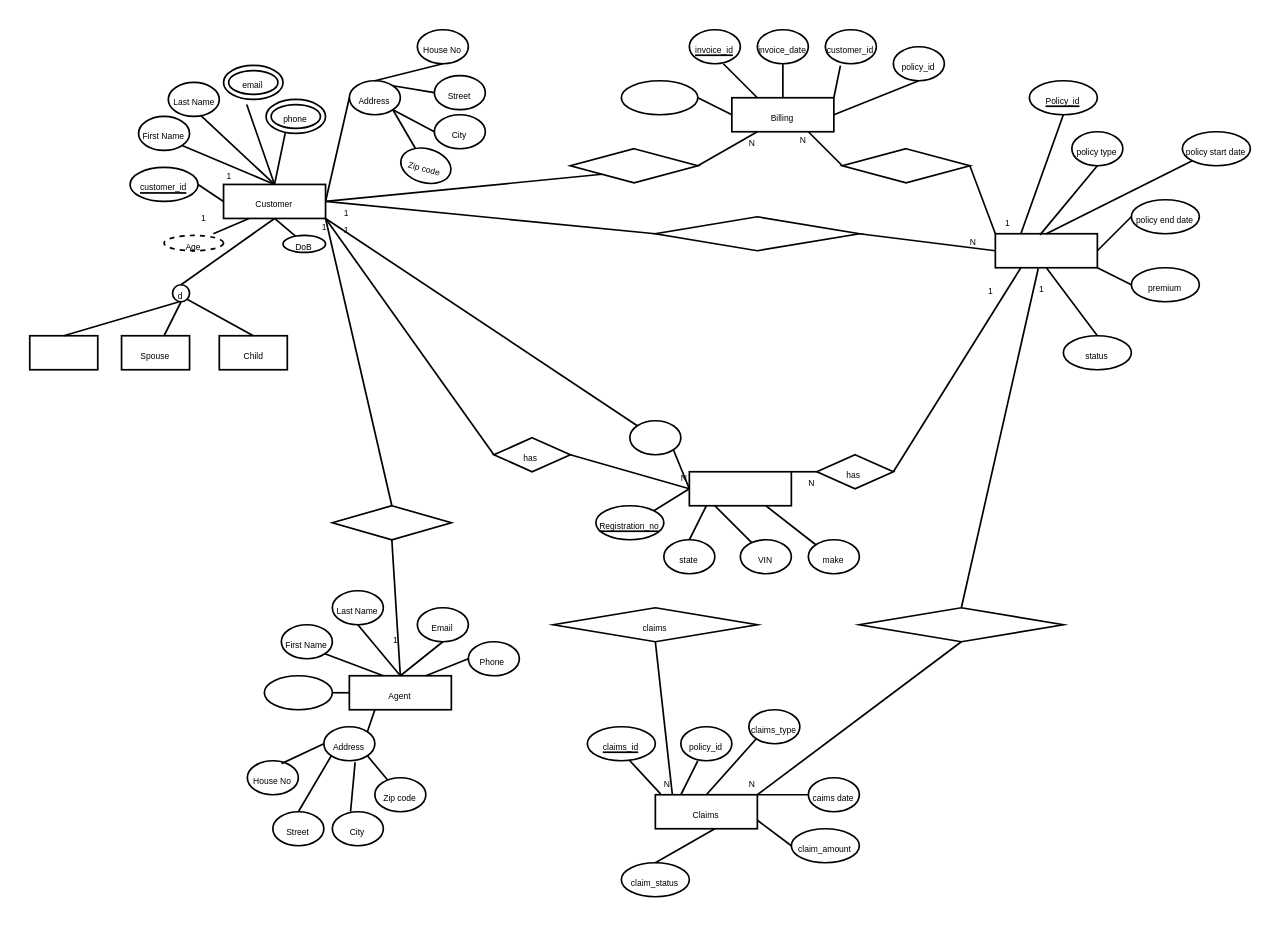
This 1280x927 diagram has some shape labels left out. Here are the shapes that lost their labels. From the top down, the centre of each, then its label:
the point at 659,97: invoice_amount
the point at 633,165: cusmoter is Billed
the point at 905,165: Billed to
the point at 756,233: Enrolled in
the point at 1045,250: Policy
the point at 63,352: Owner
the point at 654,437: model
the point at 739,488: Vehicle
the point at 391,522: Enrolled by
the point at 960,624: claims compensation
the point at 297,692: Agent_id
